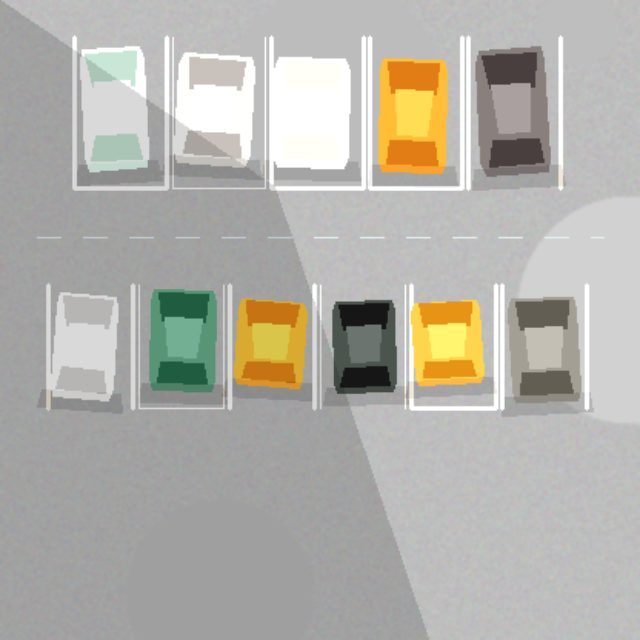space-occupied: (172, 37, 265, 188), (369, 37, 462, 188), (74, 37, 166, 188), (271, 37, 363, 188), (468, 37, 560, 188), (138, 285, 223, 408), (229, 285, 314, 408), (320, 285, 405, 408), (48, 285, 132, 408), (411, 285, 495, 408), (502, 285, 586, 408)
